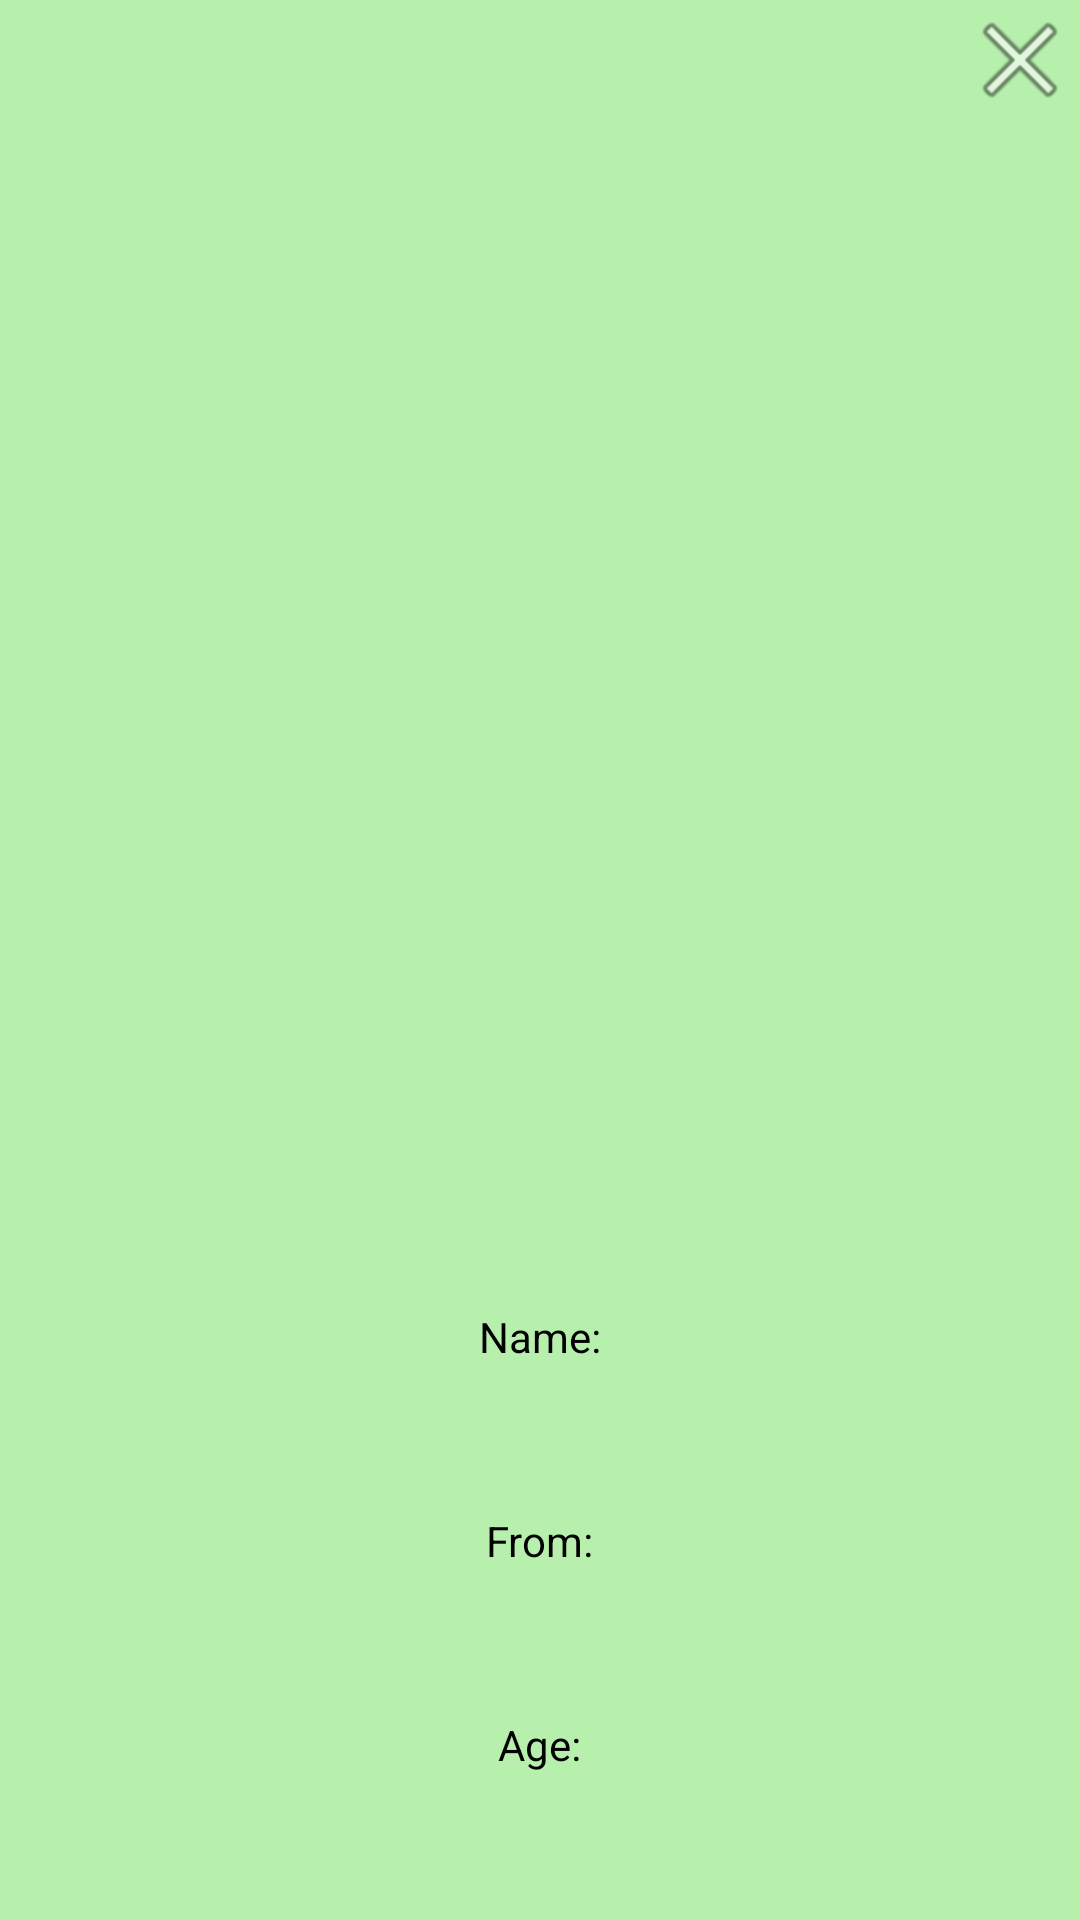

Icons on this 1080*1920 Android screen, each with its box as (x1, y1, x2, y2):
close clear cancel: (982, 22, 1058, 98)
